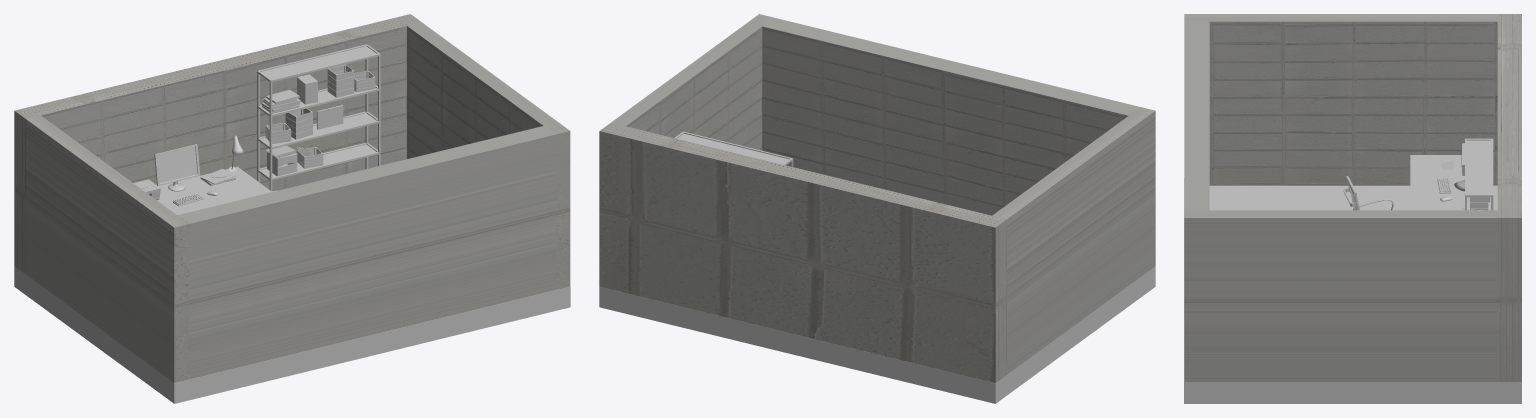
The model's file is Office_GI_0.fbx.
The picture shows the model from 3 angles, left to right: view 1: azimuth 30°, elevation 25°; view 2: azimuth 150°, elevation 25°; view 3: azimuth 270°, elevation 25°; orthographic projection. The views are drawn at different scales.
Parts seen in each view (by area): view 1: wall, desk.043, floor; view 2: wall, floor, desk.043; view 3: wall, floor, desk.043.
Boxes of the visible parts, box(x1,y1,x2,y2) form: wall: box(14, 14, 570, 382); desk.043: box(133, 44, 380, 215); floor: box(14, 266, 570, 403); wall: box(599, 14, 1155, 382); floor: box(599, 266, 1155, 403); desk.043: box(674, 131, 793, 166); wall: box(1184, 14, 1521, 381); floor: box(1184, 178, 1521, 403); desk.043: box(1343, 138, 1493, 210).
Size of the model in its own units: 800 by 340 by 560.
